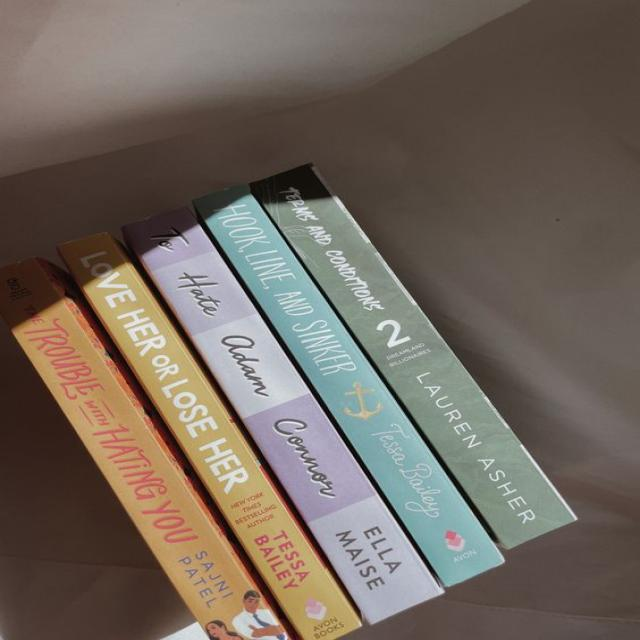book: (124, 206, 439, 621), (253, 166, 575, 548), (60, 234, 361, 639), (196, 193, 503, 584), (0, 259, 293, 639)
